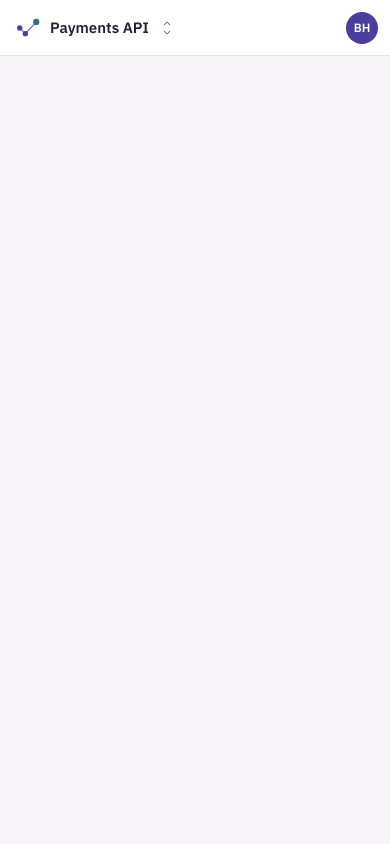
Test: PhoneHeader › keeps only the account button for a developer
The width and height of the screenshot is (390, 844).
Click the button with aria-label "Account, Batool Hani".
click(362, 28)  # box [346, 12, 378, 44]
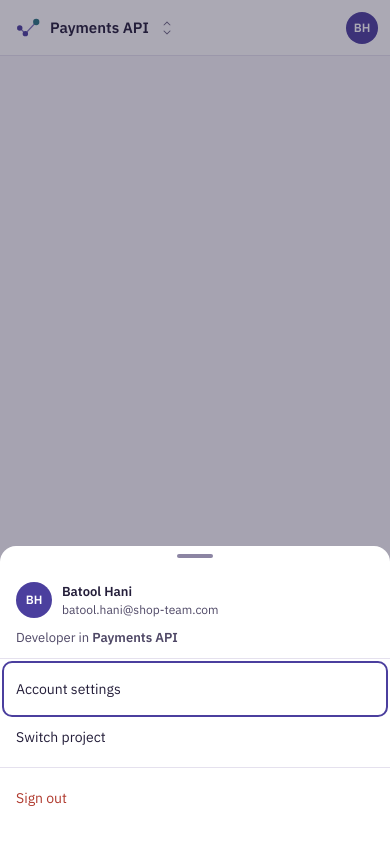
Result: the button "Sign out" is shown at [6, 774, 384, 822]
